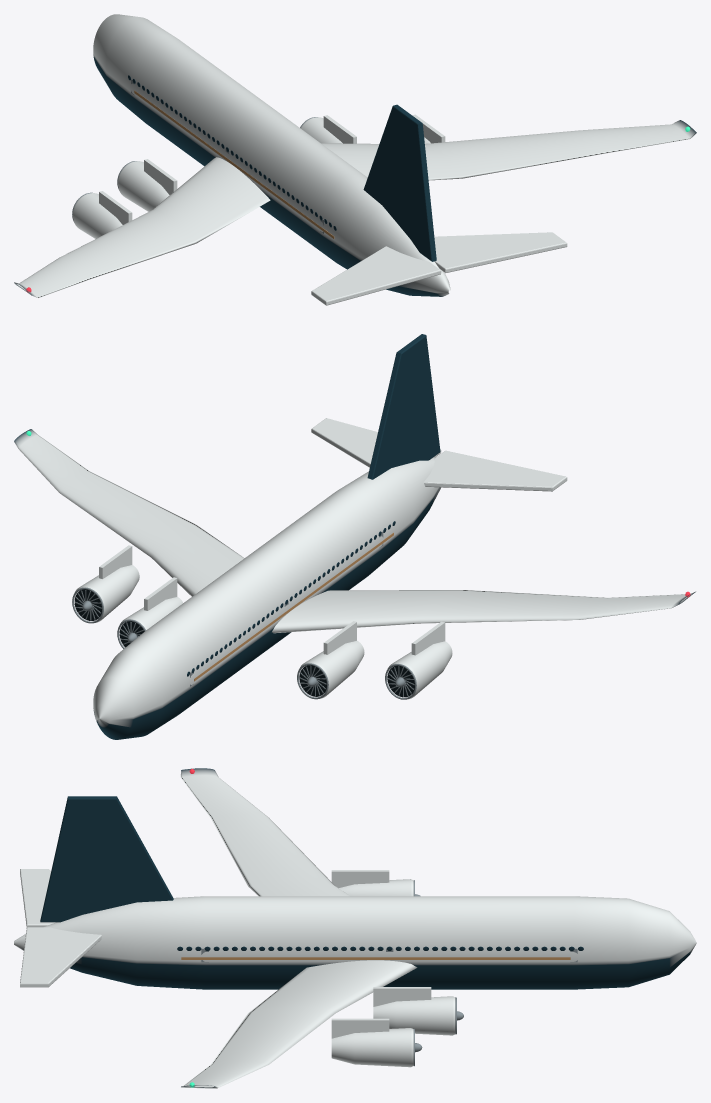
3 views of the same model, one above another, from view 1: azimuth 30°, elevation 25°; view 2: azimuth 150°, elevation 25°; view 3: azimuth 270°, elevation 25° (orthographic). The views are drawn at different scales.
Size of the model in its own units: 79.75 by 22.68 by 72.72.
